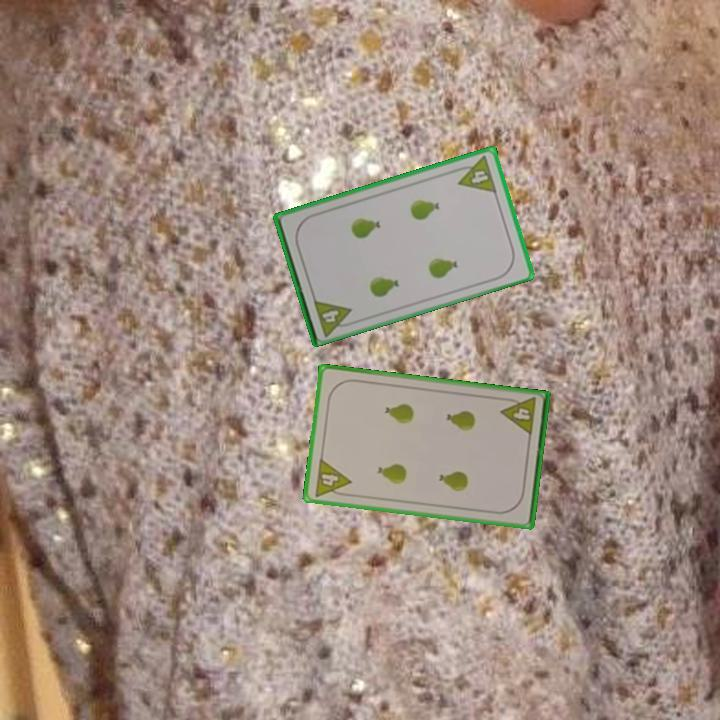4p: (451, 152, 500, 196), (310, 295, 357, 338), (311, 455, 354, 500), (498, 394, 539, 439)
